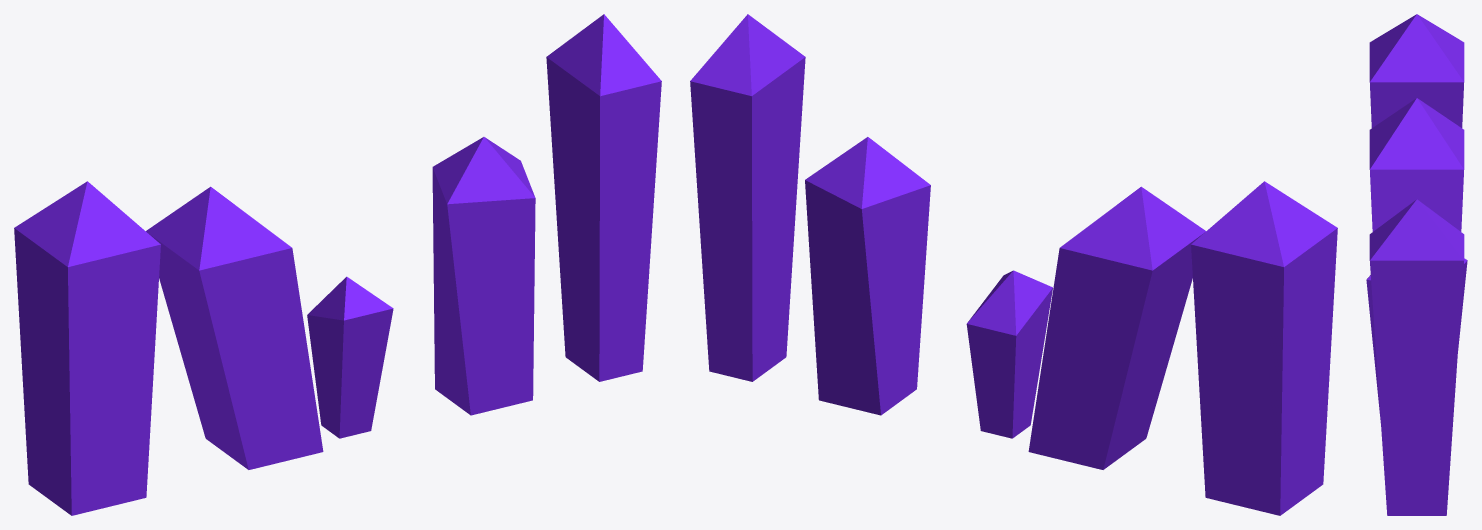
File: crystals.glb
3 views of the same model, side by side, from view 1: azimuth 30°, elevation 25°; view 2: azimuth 150°, elevation 25°; view 3: azimuth 270°, elevation 25° (orthographic). The views are drawn at different scales.
Visible parts, largest first — view 1: Crystal1, Crystal5, Crystal2, Crystal4, Crystal3; view 2: Crystal1, Crystal5, Crystal2, Crystal4, Crystal3; view 3: Crystal5, Crystal2, Crystal1, Crystal4.
Boxes of the visible parts, x1,y1,x2,y2 form: Crystal1: (14,181,160,515); Crystal5: (546,14,661,381); Crystal2: (146,186,323,469); Crystal4: (432,137,535,415); Crystal3: (307,276,393,438); Crystal1: (1191,181,1337,515); Crystal5: (690,14,805,381); Crystal2: (1028,186,1205,469); Crystal4: (805,137,930,415); Crystal3: (966,270,1052,438); Crystal5: (1369,199,1464,515); Crystal2: (1369,98,1464,231); Crystal1: (1369,14,1464,127); Crystal4: (1366,258,1467,422).
Size of the model in its own units: 12.76 by 7.22 by 2.15.
